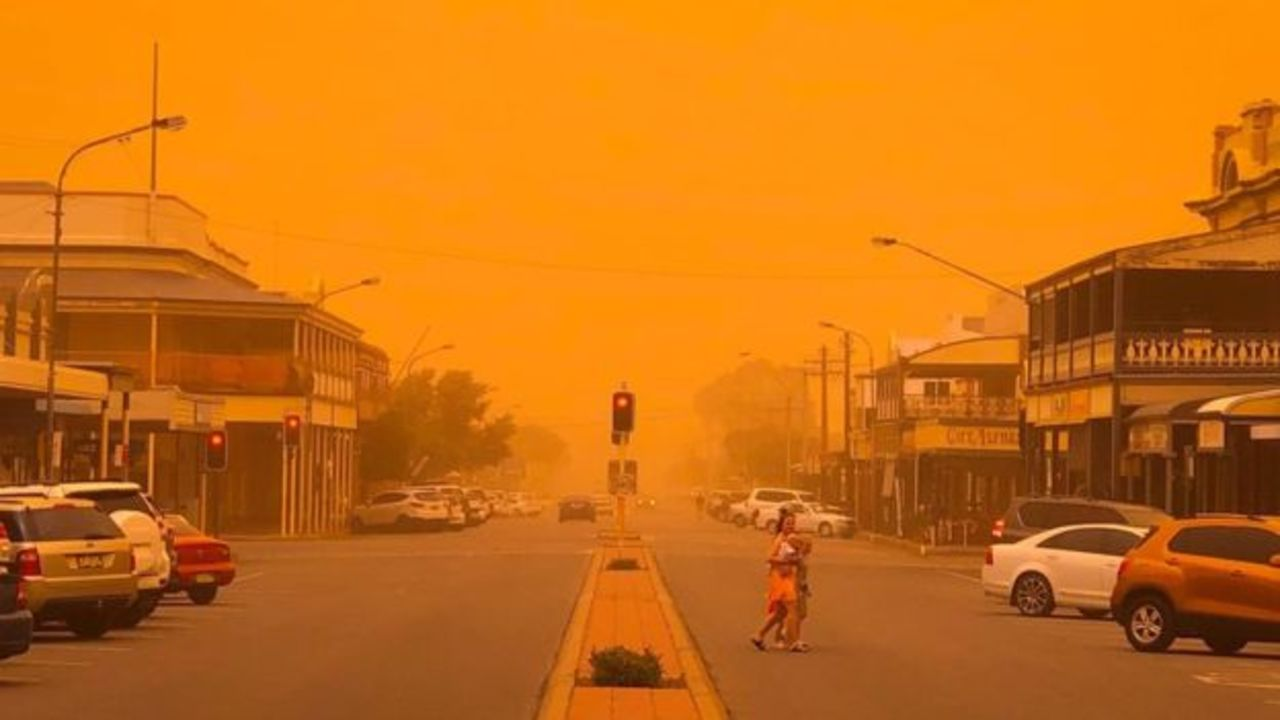car: (1106, 514, 1279, 656), (2, 486, 160, 640), (27, 483, 184, 612), (981, 521, 1152, 619), (991, 496, 1165, 547), (161, 510, 236, 609), (346, 484, 444, 533), (741, 488, 804, 528), (788, 501, 852, 537), (708, 491, 750, 526), (558, 497, 596, 524), (465, 491, 485, 531), (447, 490, 462, 529), (635, 493, 656, 509)
person: (757, 514, 797, 650), (785, 534, 818, 651)
